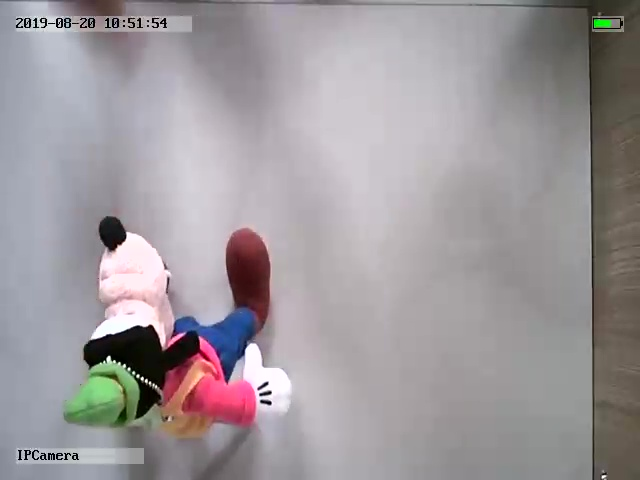goofy: (62, 214, 293, 438)
